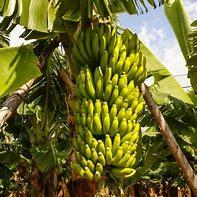banana: (67, 20, 144, 178), (68, 72, 146, 126), (62, 123, 141, 176), (66, 20, 145, 70)
